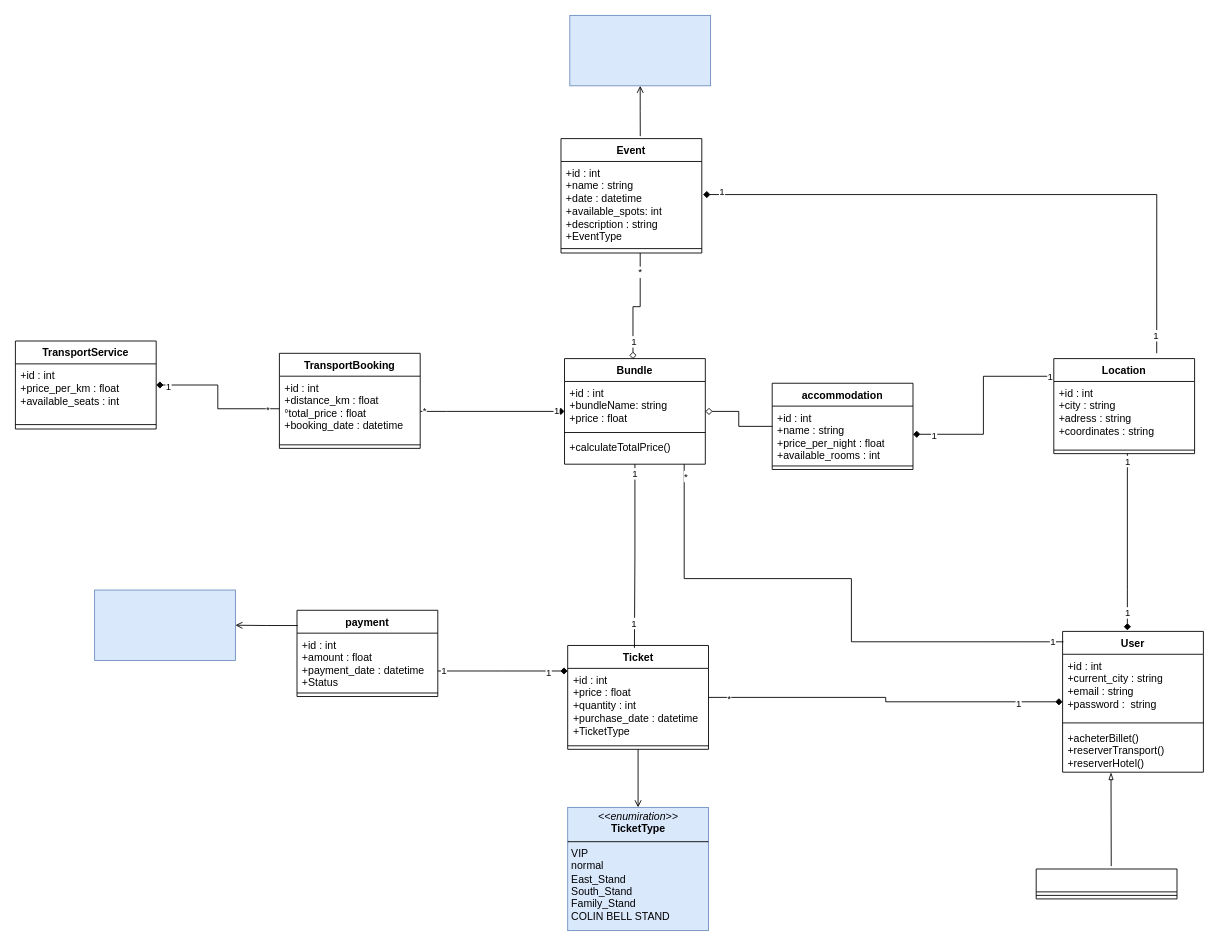
This 1219x946 diagram has some shape labels left out. Here are the shapes that lost their labels. From the top down, the centre of each, then its label:
At (x=640, y=50): "<<enumiration>> EventType Match Fan_zone".
At (x=164, y=624): "<<enumiration>> Status failed success".
At (x=1106, y=883): "Admin".
